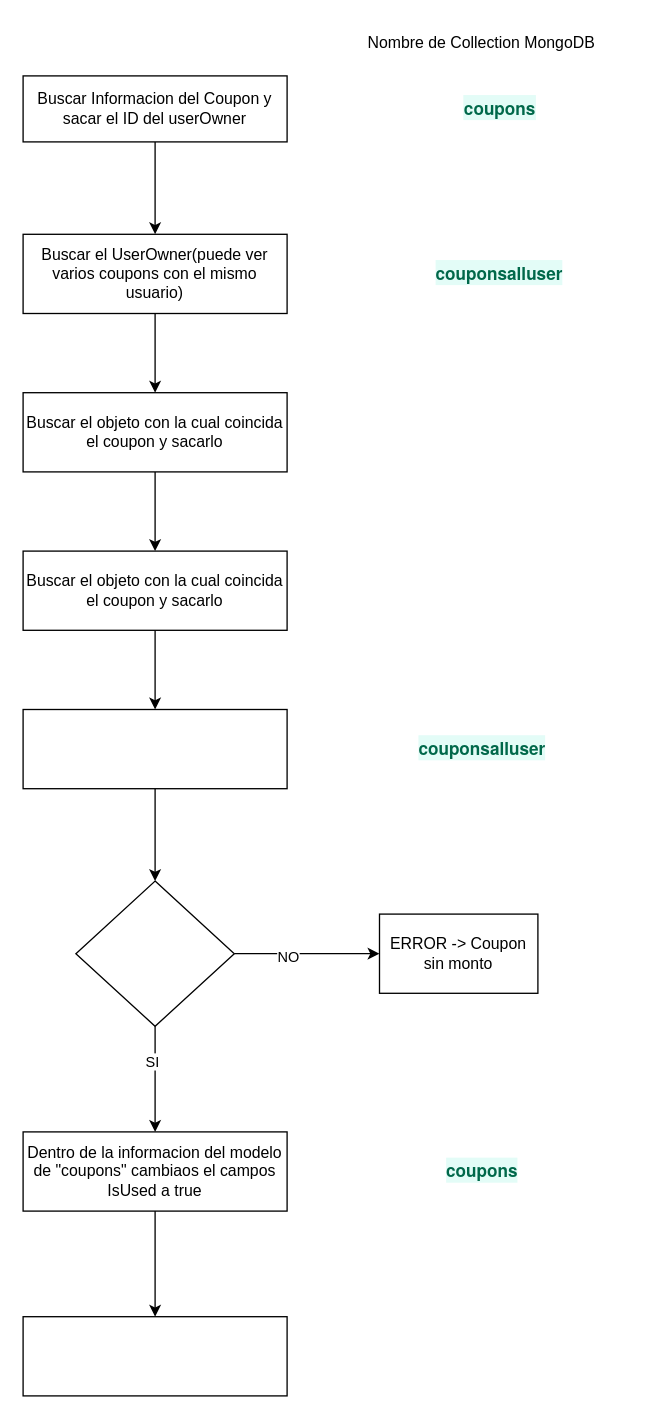
Image size: 660x1419. Some labels were removed from this diagram. Each missing label, with the centre of its shape:
APPROVED: pixel 154 953
PASA A LA COLA DE TRANSFERENCIA QUE TENGO QUE HACER MANUALMENTE: pixel 154 1355
Sacaar el estado del pago que se encuentra dentro de infoPayment.status: pixel 154 748
